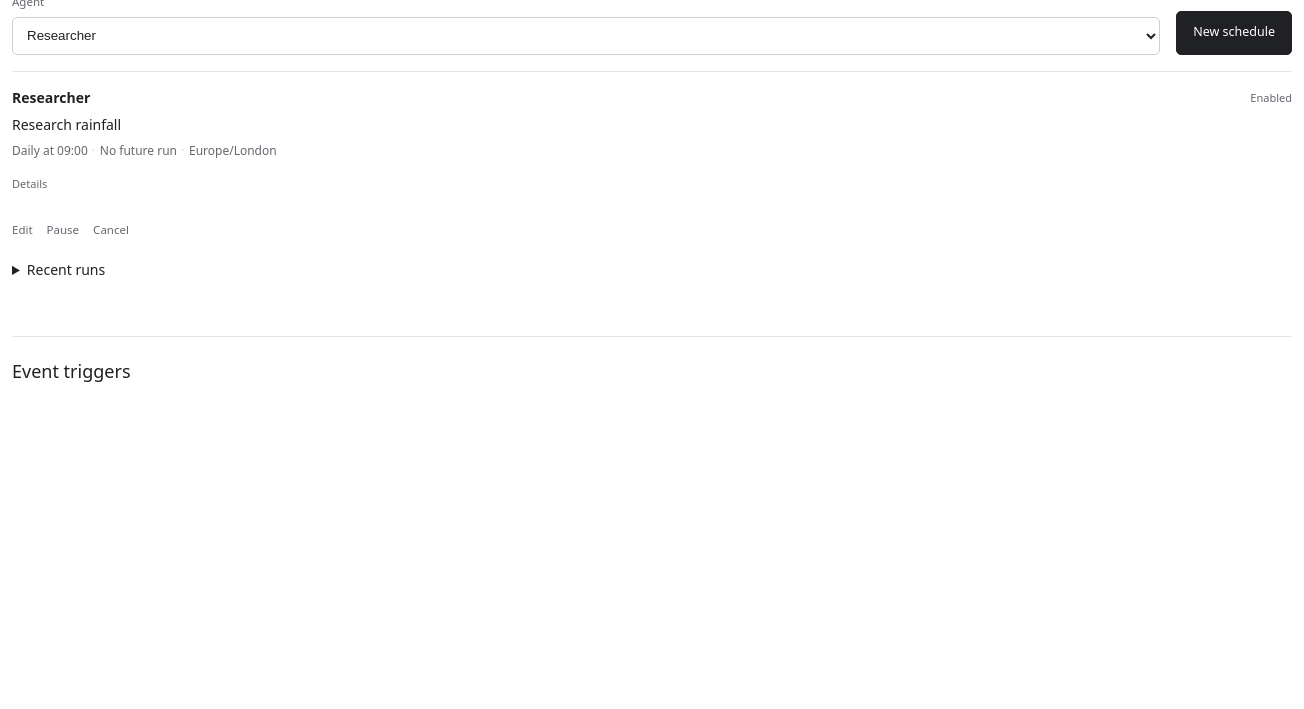
it: Local schedules › opens on the current agent, prefills new schedules, and can show every agent
The width and height of the screenshot is (1304, 709).
Expected: the text "Research rainfall" is shown, [12,115,121,134]
Expected: the text "Another agent's research" is not shown
Click the button "New schedule".
click(1234, 33)  # box [1176,11,1292,55]
(page scrolled)
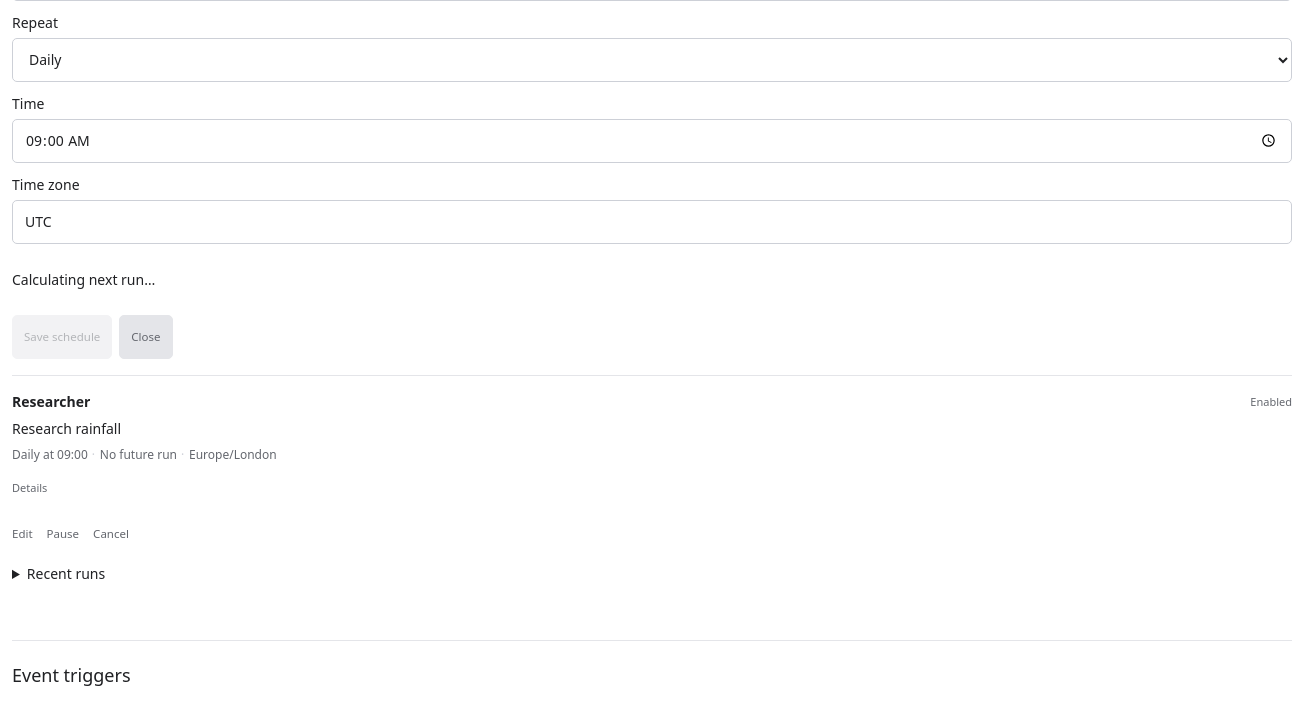
Click the button "Close".
click(146, 337)  # box [119,315,172,359]
(page scrolled)
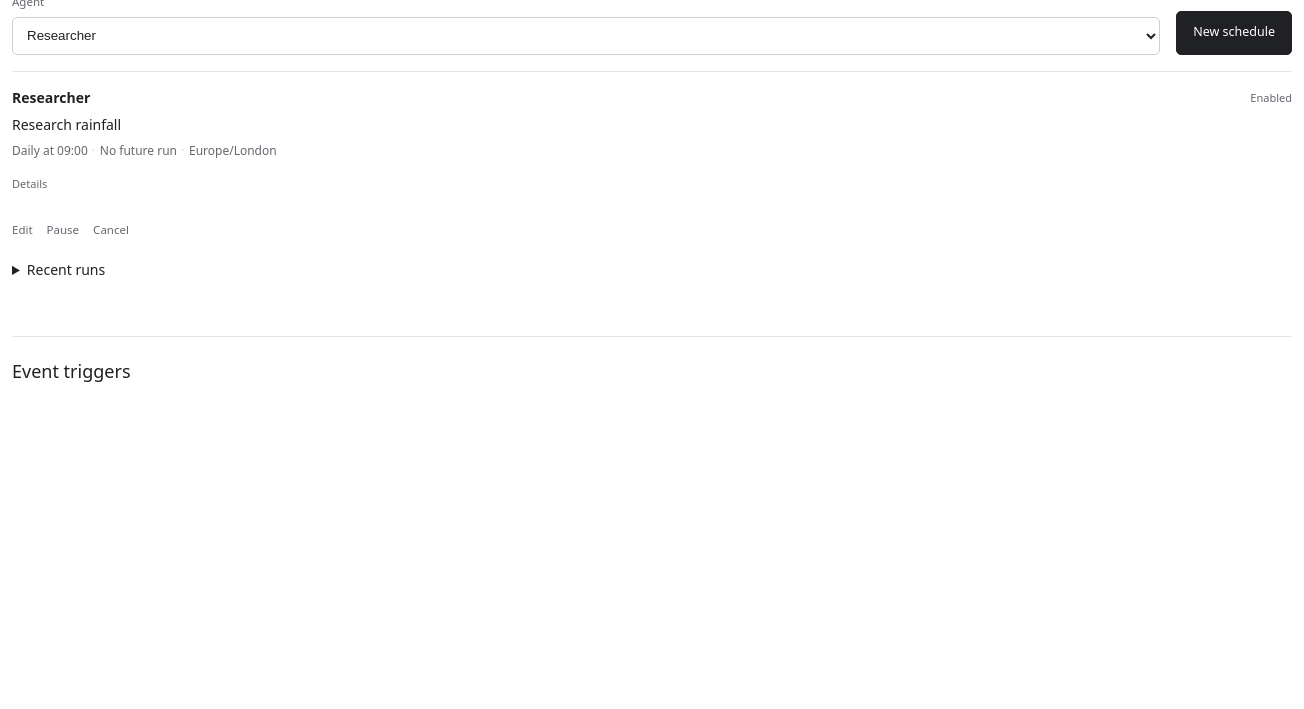
Select "All agents" in the dropdown named "Filter schedules by agent" at (586, 36), box [12,17,1160,55]
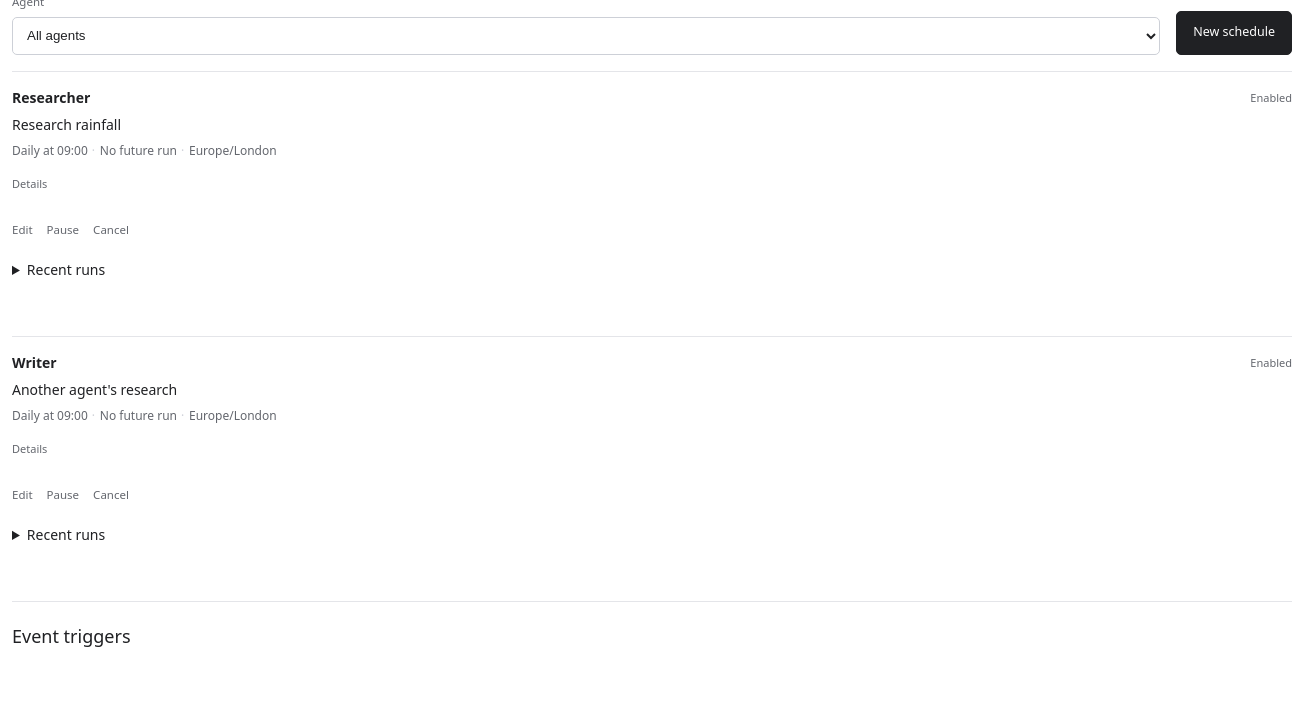
Expected: the text "Another agent's research" is shown, [12,380,177,399]
